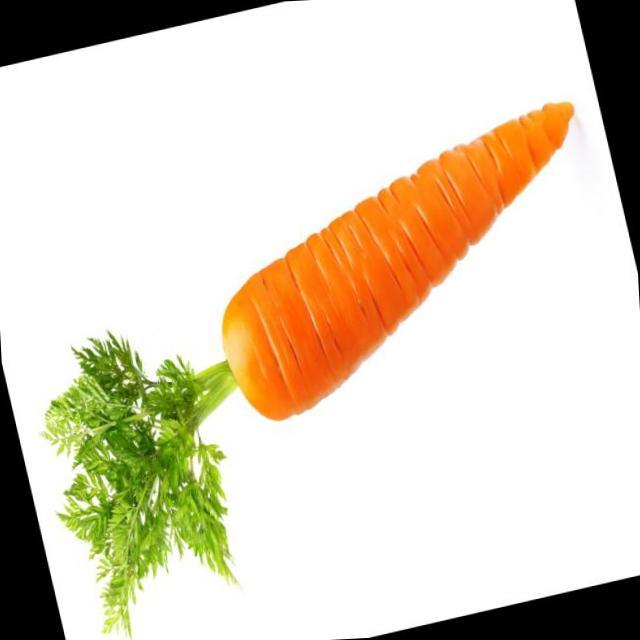carrot: (0, 47, 640, 629)
